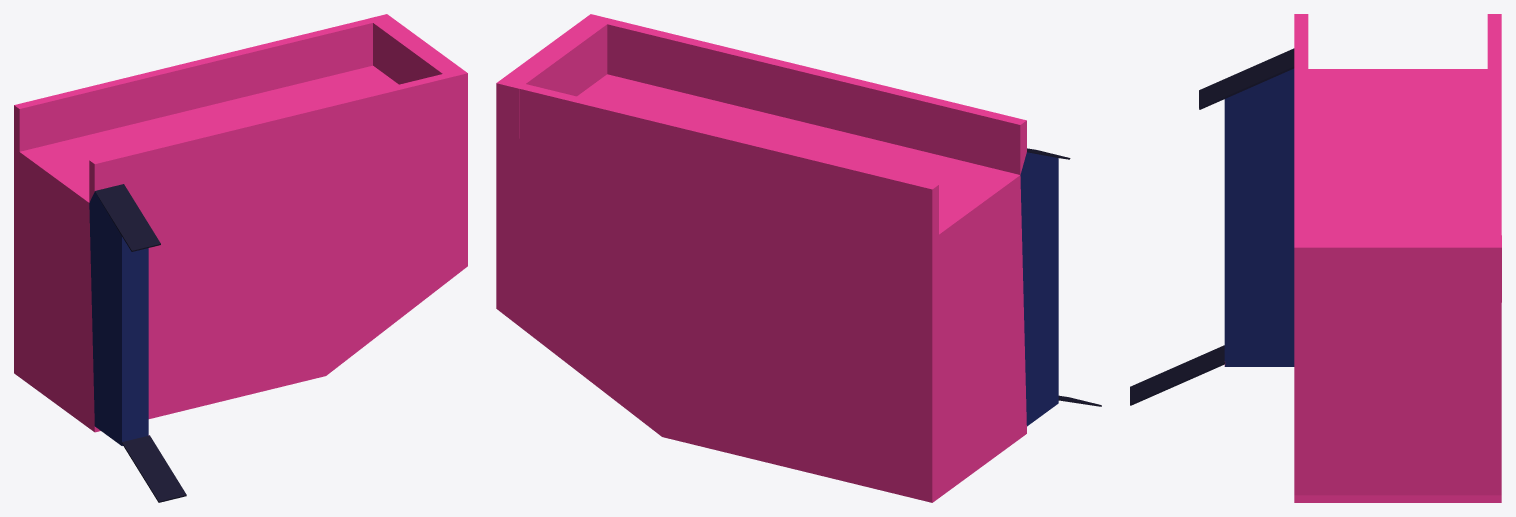
3 renders of one model, left to right at view 1: azimuth 30°, elevation 25°; view 2: azimuth 150°, elevation 25°; view 3: azimuth 270°, elevation 25°, orthographic. The views are drawn at different scales.
Parts seen in each view (by area): view 1: Mesh_0.021; view 2: Mesh_0.021; view 3: Mesh_0.021.
Part boxes in pixels (box(x1,y1,x2,y2)): Mesh_0.021: box(14, 14, 467, 502); Mesh_0.021: box(496, 14, 1101, 502); Mesh_0.021: box(1130, 14, 1501, 502).
Size of the model in its own units: 4 by 2.99 by 2.69.
